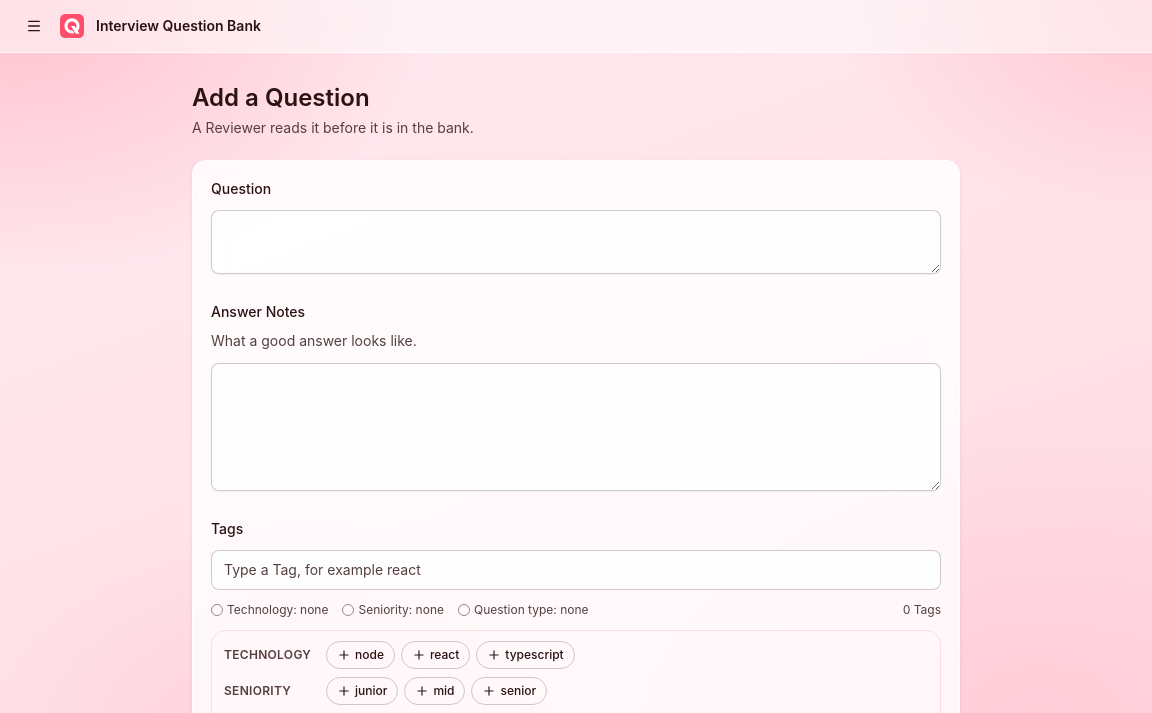
Test: a Question the API judged a Near-Duplicate › shows each Near-Duplicate, and how alike it is, in a dialog
Type "How would you find a slow query?" into the text box labelled "Question" at (576, 242), box 211,210 -> 941,274
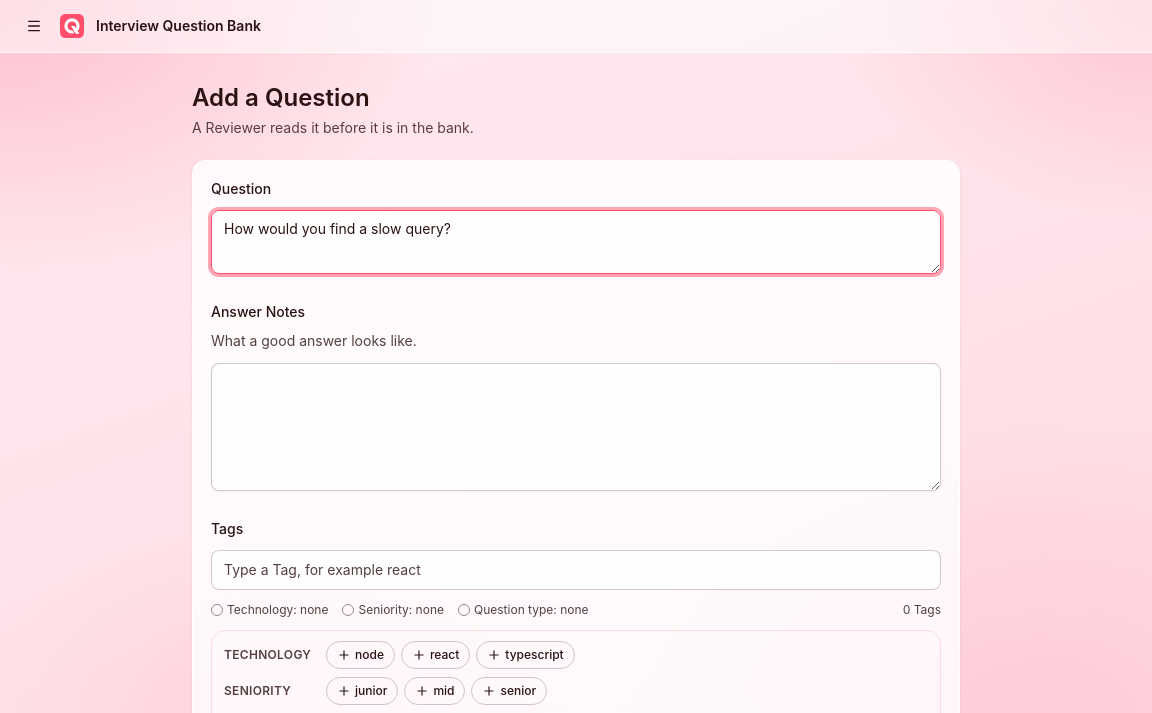
Type "Look for EXPLAIN ANALYZE." into the text box labelled "Answer Notes" at (576, 426), box 211,362 -> 941,490
(page scrolled)
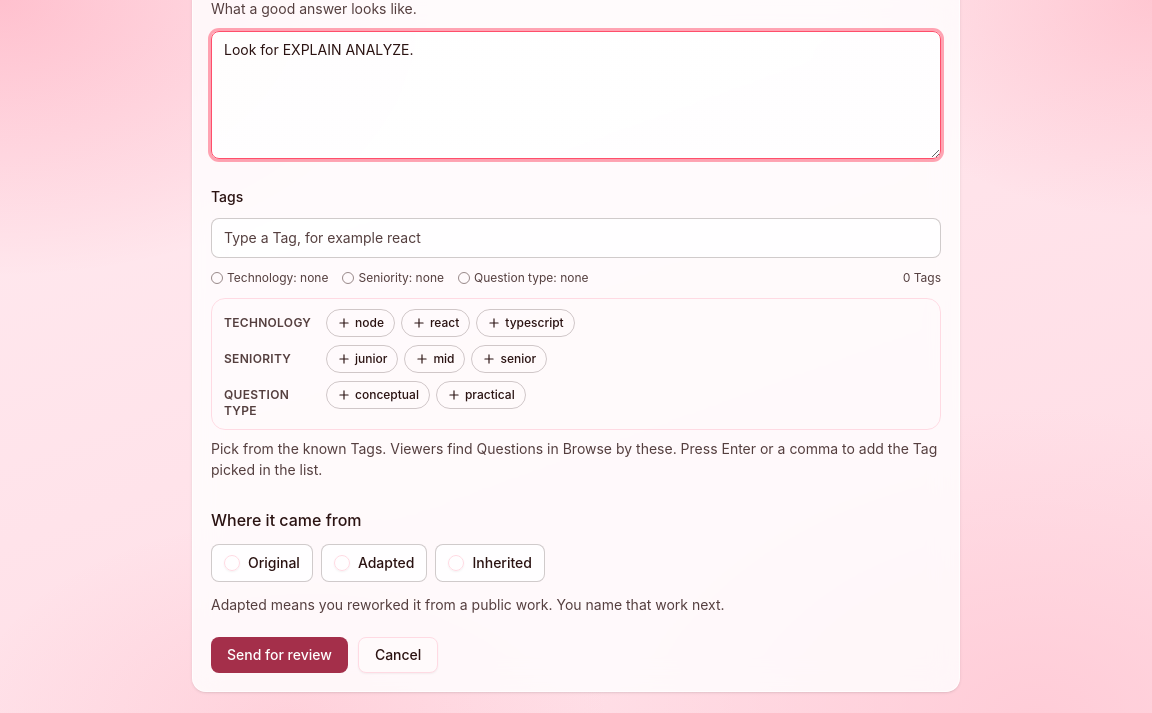
Click the radio button named "Original" next to "Original" at (232, 563), box 224,555 -> 240,571
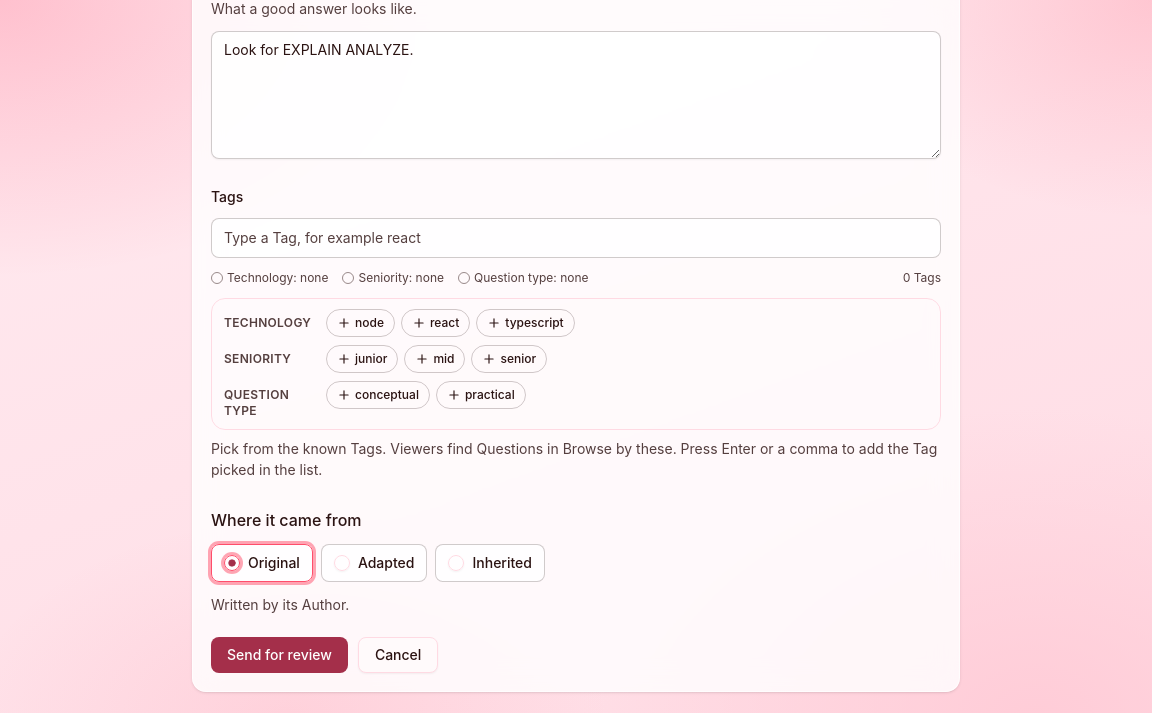
Click the button "Send for review" at (279, 655), box 211,637 -> 348,673
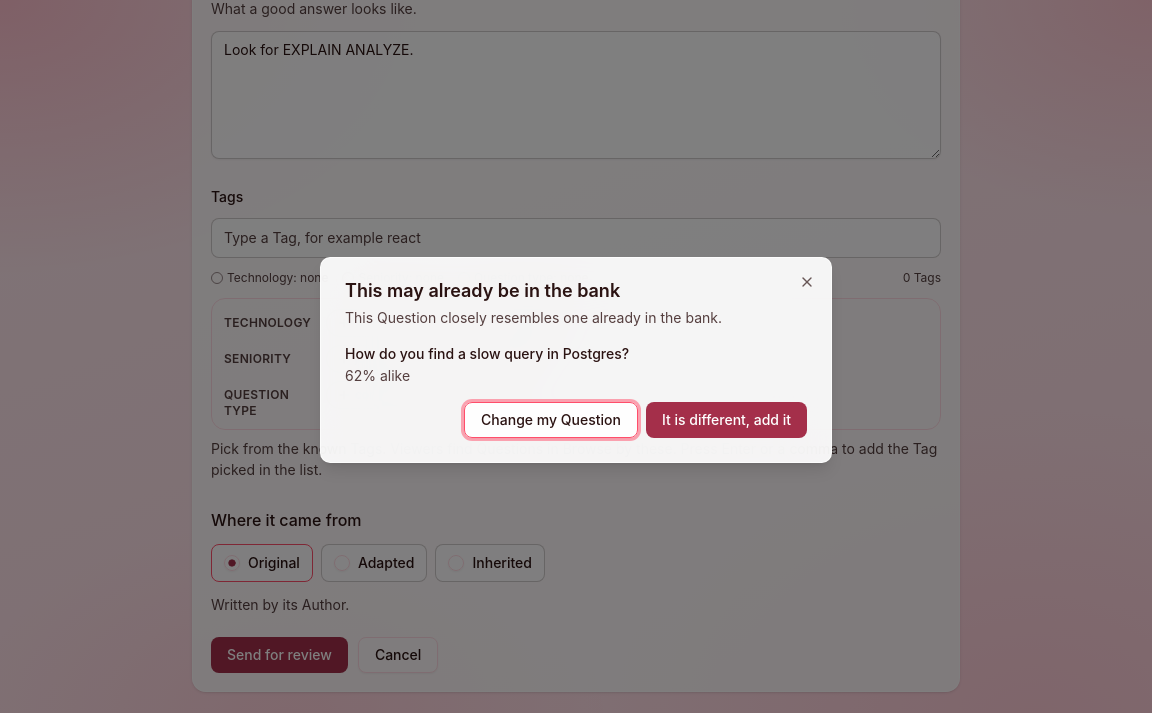
Expected: the text "This Question closely resembles one already in the bank." is shown, 345,309 -> 722,326
Expected: the text "62% alike" is shown, 345,367 -> 410,384
